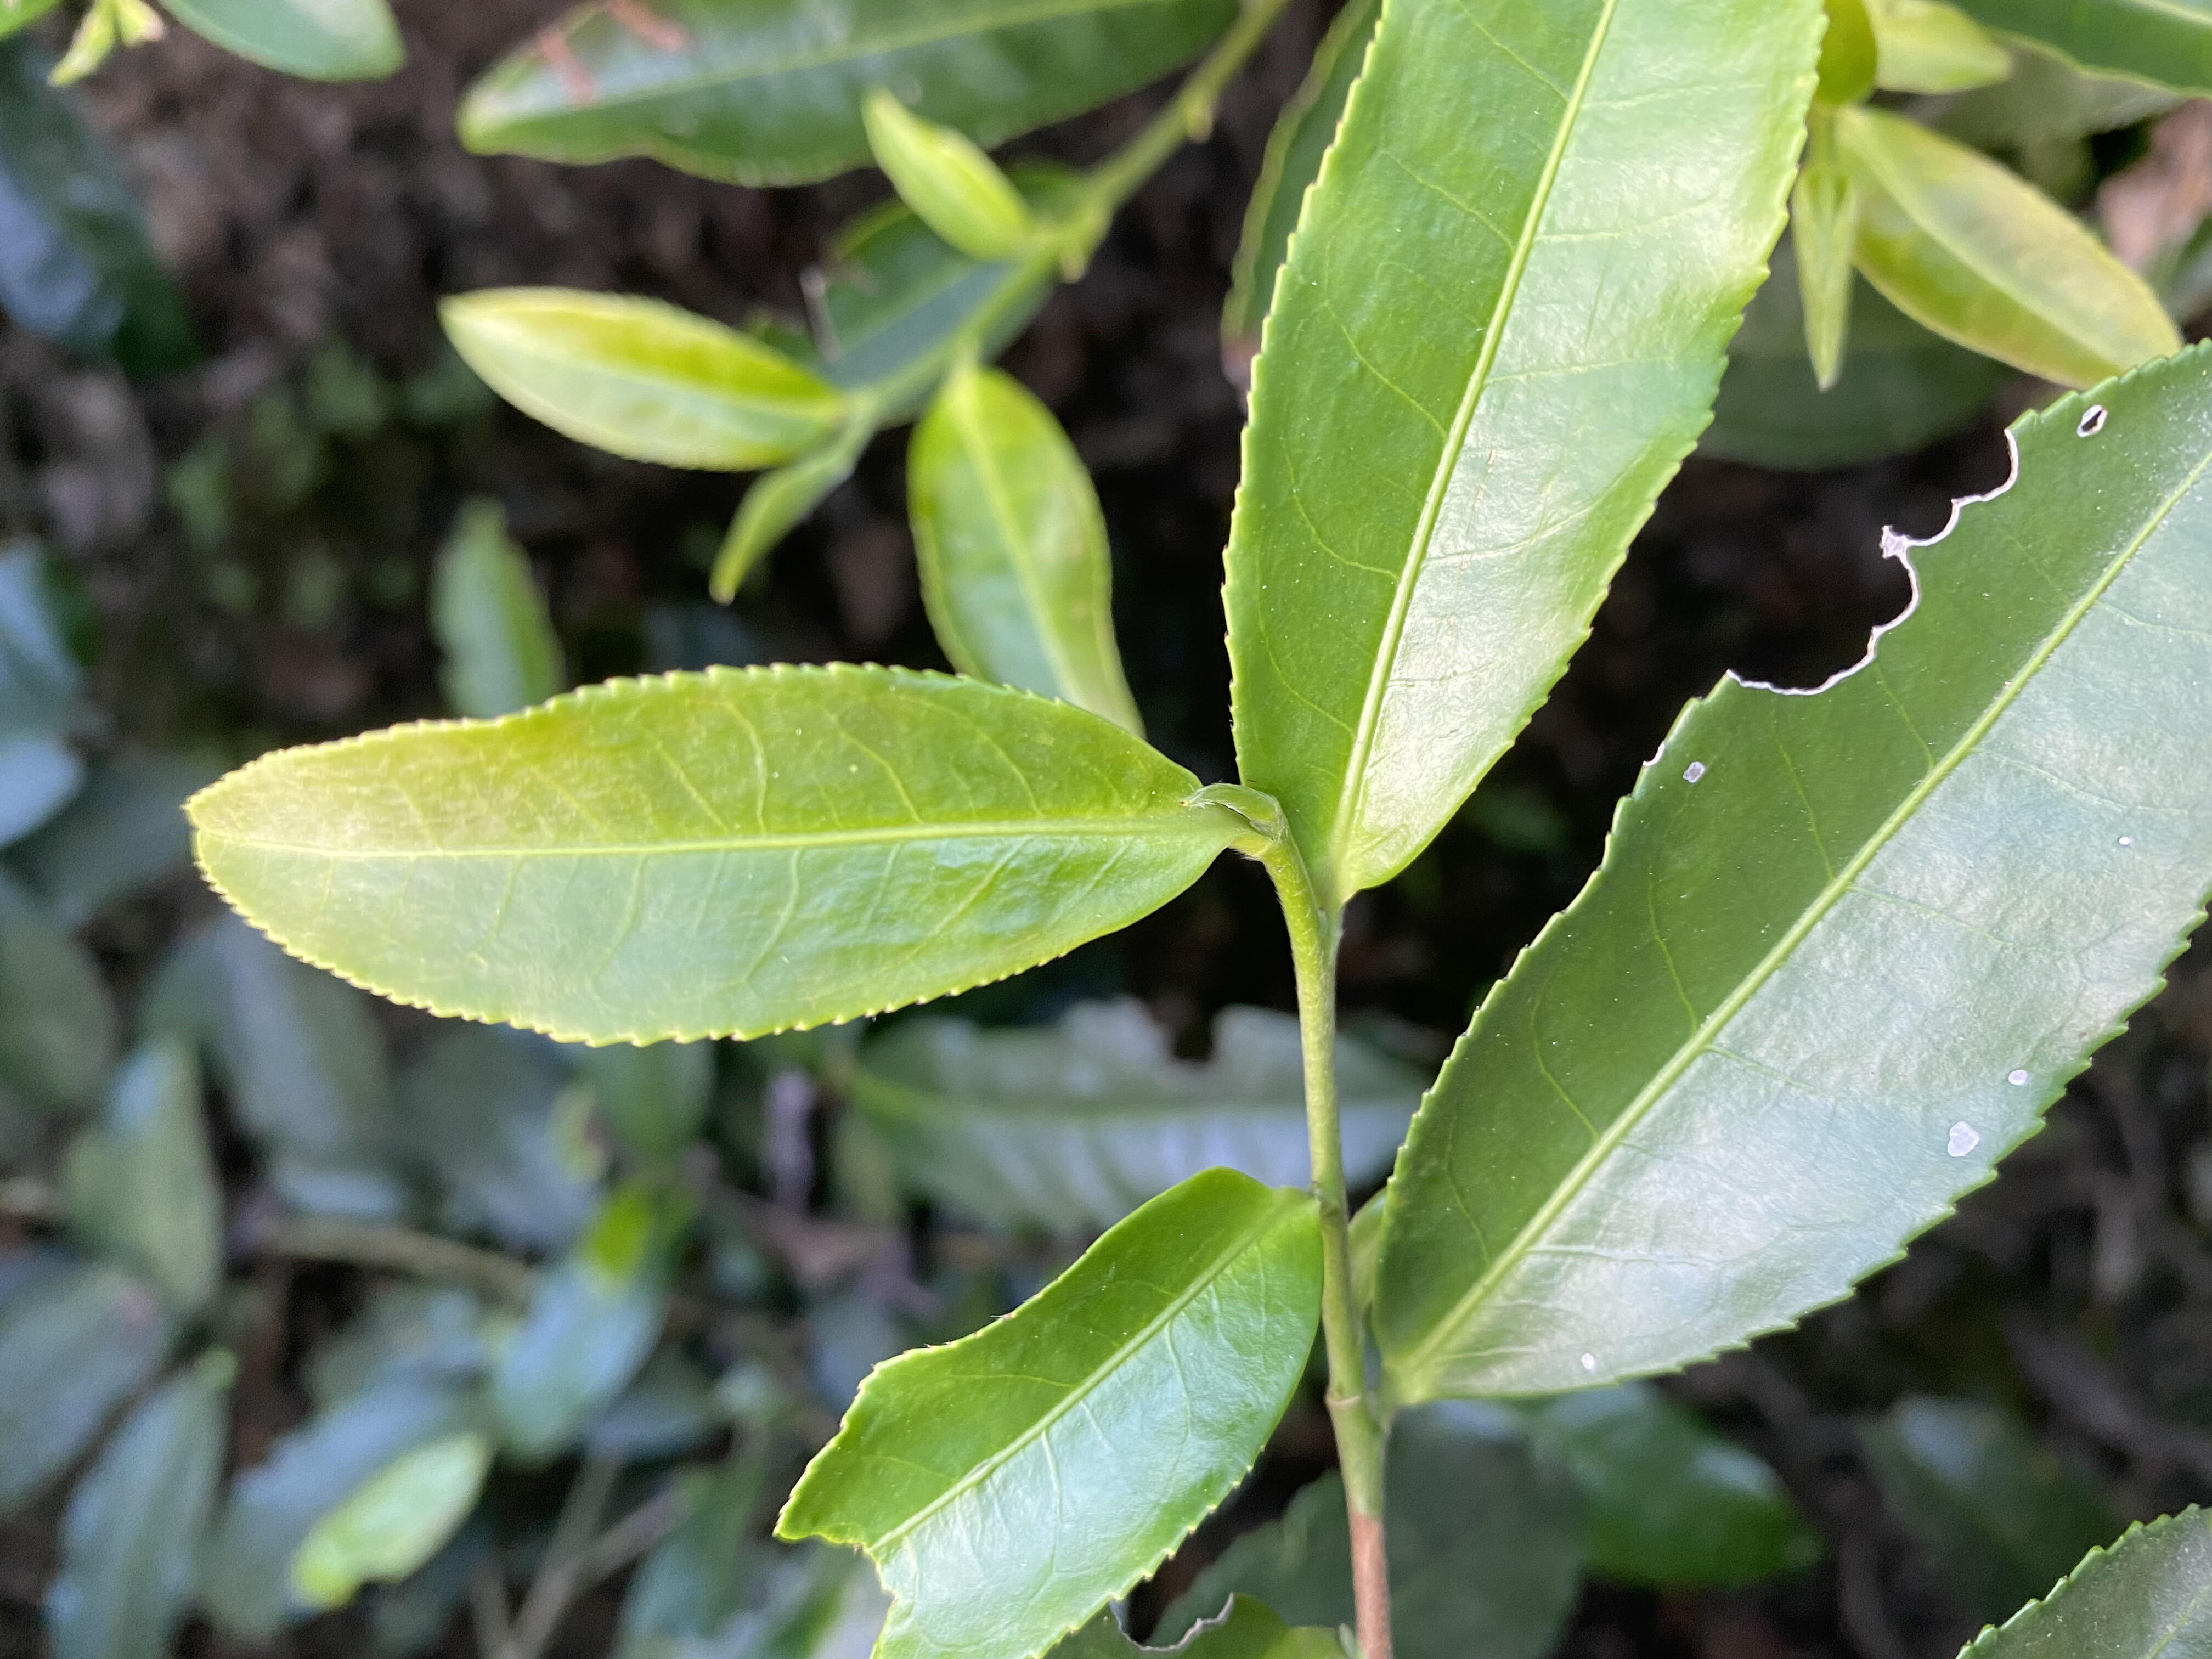chihuo_high: (1376, 336, 2209, 1408)
chihuo_low: (770, 1166, 1329, 1659)
healthy: (1223, 0, 1827, 910), (179, 657, 1221, 1054)
